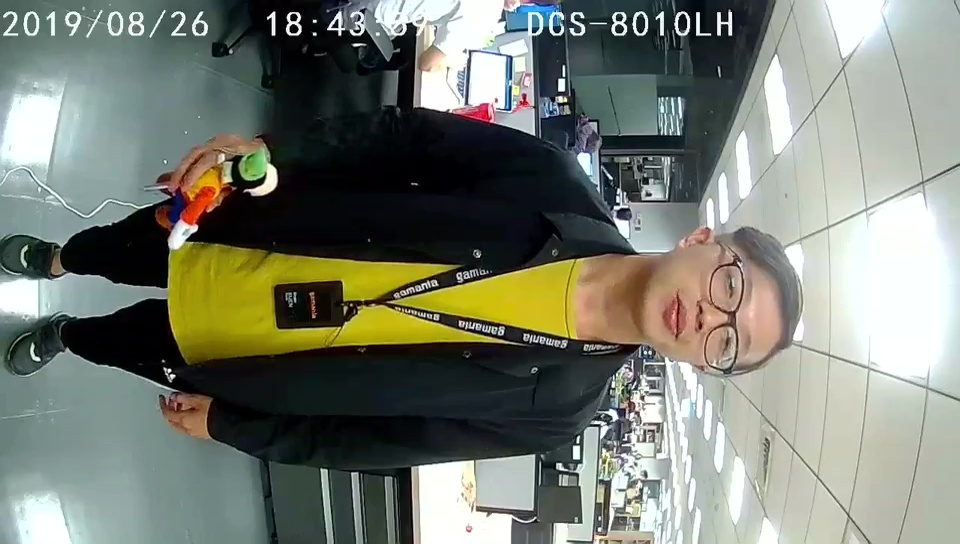goofy: (154, 146, 279, 249)
